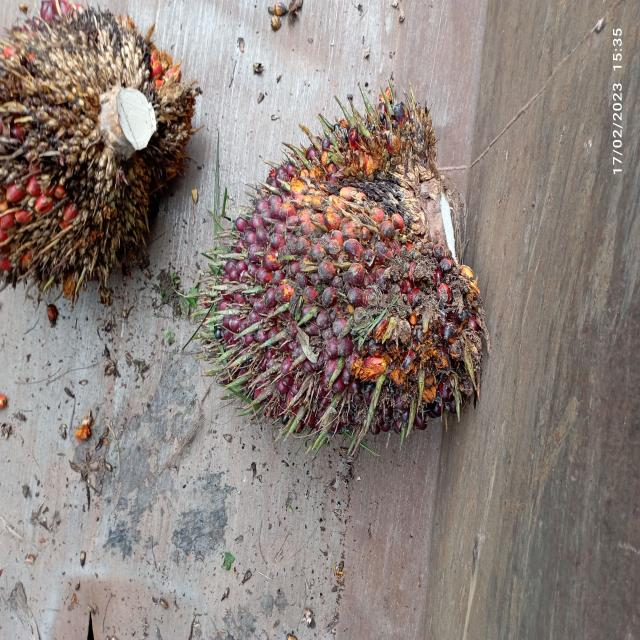fraksi 1: (184, 75, 536, 496)
